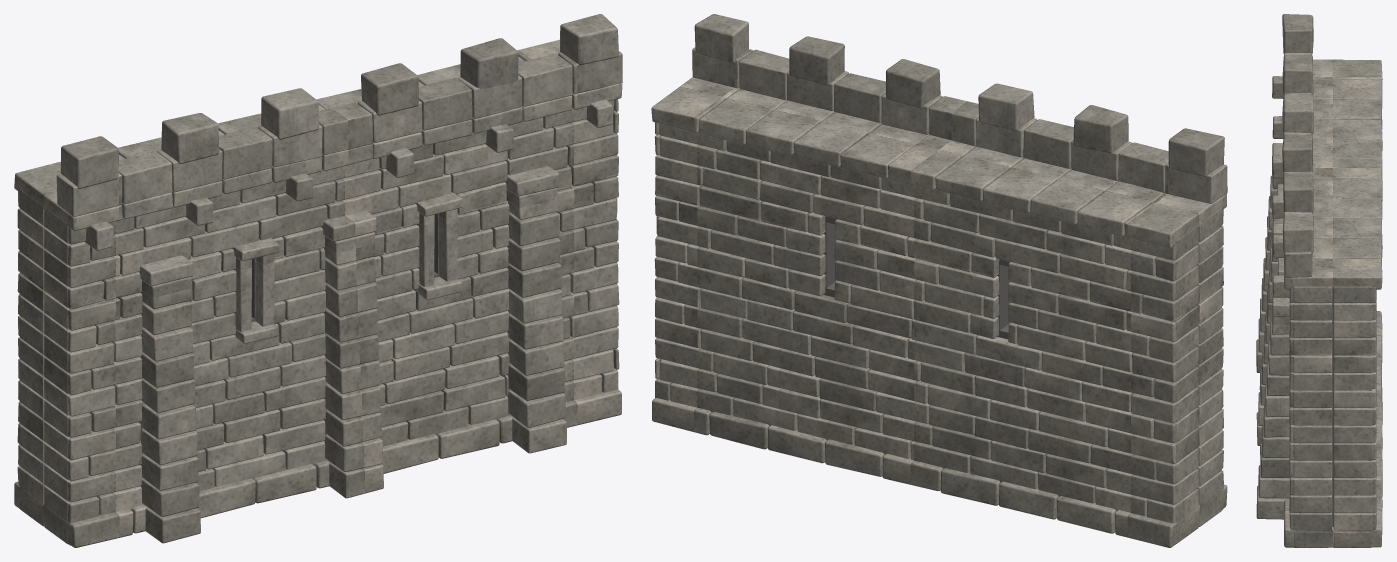
Rendered from wall_straight.glb.
The picture shows the model from 3 angles, left to right: view 1: azimuth 30°, elevation 25°; view 2: azimuth 150°, elevation 25°; view 3: azimuth 270°, elevation 25°; orthographic projection. The views are drawn at different scales.
Visible parts, largest first — view 1: Bonded ashlar course.001, Bonded ashlar course.005, Bonded ashlar course, Bonded ashlar course.015, Bonded ashlar course.017, Walkway dressed coping, Bonded ashlar course.003; view 2: Bonded ashlar course, Bonded ashlar course.001, Bonded ashlar course.015, Bonded ashlar course.005, Walkway dressed coping, Bonded ashlar course.017, Bonded ashlar course.003, Masonry recessed structural backing; view 3: Walkway dressed coping, Bonded ashlar course.001, Bonded ashlar course.005, Bonded ashlar course.017, Bonded ashlar course, Bonded ashlar course.015, Bonded ashlar course.003, Masonry recessed structural backing.
Boxes of the visible parts, box(x1,y1,x2,y2) form: Bonded ashlar course.001: box(18, 88, 621, 518); Bonded ashlar course.005: box(17, 51, 622, 543); Bonded ashlar course: box(14, 53, 618, 547); Bonded ashlar course.015: box(17, 75, 618, 533); Bonded ashlar course.017: box(17, 38, 618, 516); Walkway dressed coping: box(14, 39, 622, 343); Bonded ashlar course.003: box(18, 14, 618, 483); Bonded ashlar course: box(655, 49, 1227, 547); Bonded ashlar course.001: box(652, 83, 1227, 519); Bonded ashlar course.015: box(655, 71, 1223, 533); Bonded ashlar course.005: box(655, 47, 1224, 543); Walkway dressed coping: box(651, 77, 1226, 248); Bonded ashlar course.017: box(655, 36, 1223, 503); Bonded ashlar course.003: box(654, 14, 1222, 503); Masonry recessed structural backing: box(703, 184, 1010, 339); Walkway dressed coping: box(1272, 59, 1382, 316); Bonded ashlar course.001: box(1258, 53, 1382, 547); Bonded ashlar course.005: box(1256, 14, 1382, 547); Bonded ashlar course.017: box(1258, 134, 1376, 547); Bonded ashlar course: box(1256, 92, 1382, 512); Bonded ashlar course.015: box(1256, 132, 1382, 519); Bonded ashlar course.003: box(1259, 94, 1376, 512); Masonry recessed structural backing: box(1332, 289, 1333, 526).
Size of the model in its own units: 8 by 5.45 by 1.95.
Materials: 8 (7 with a texture image).
